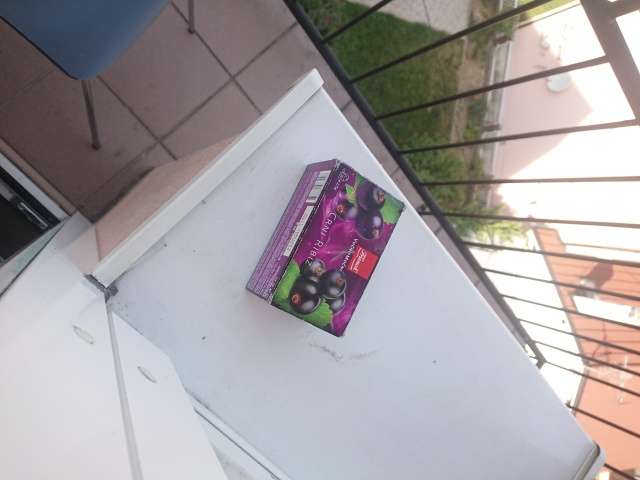Franck Black Currant Tea 60g: (243, 156, 408, 340)
